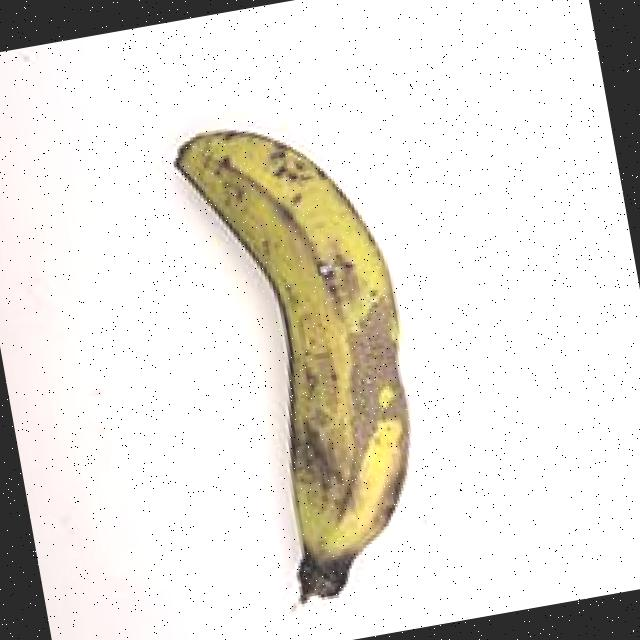Overripe: (98, 45, 483, 640)
